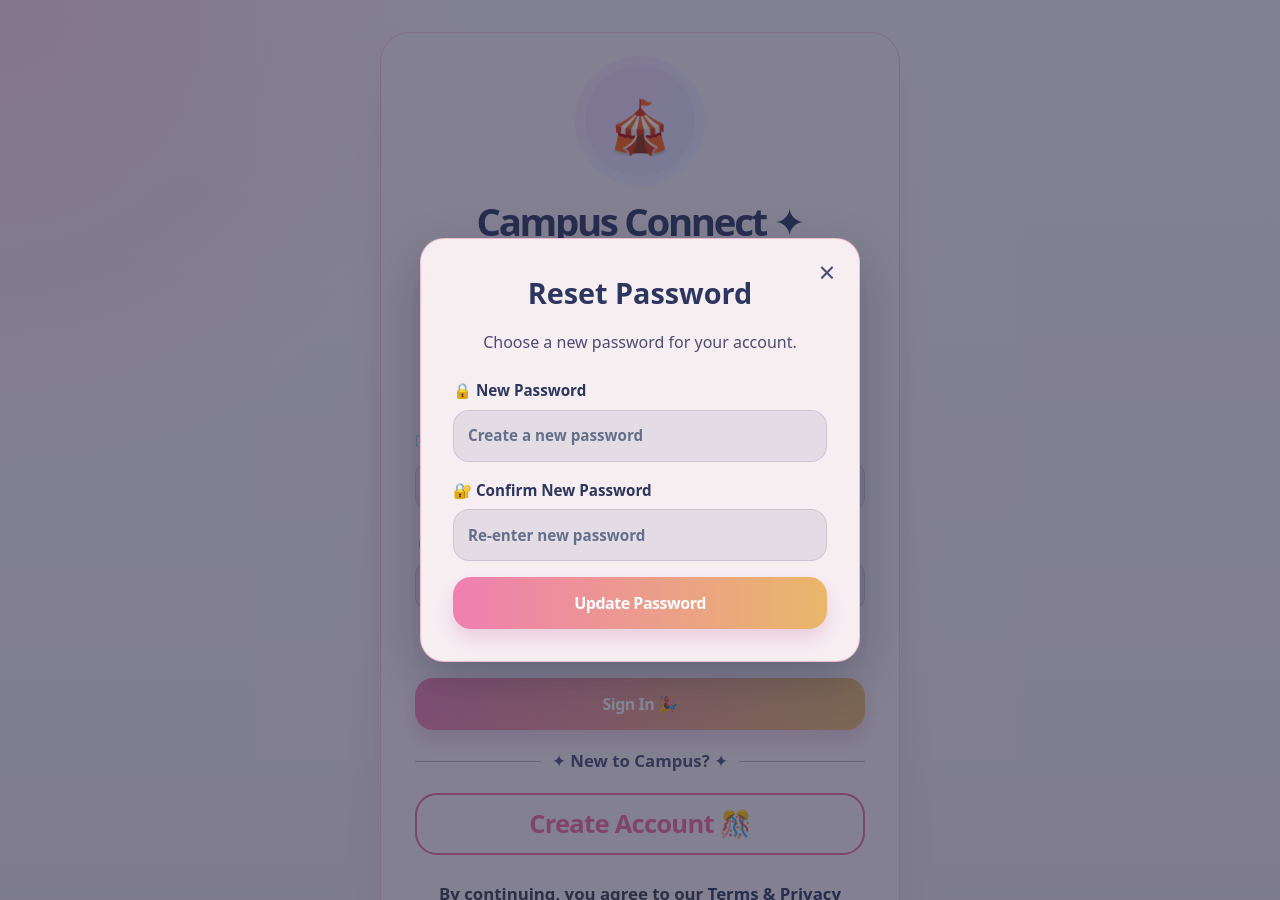
LoginPage › does not submit mismatched new passwords
Type "NewPassword1" into the password field labelled "New Password" at (640, 436), box [468,424,812,447]
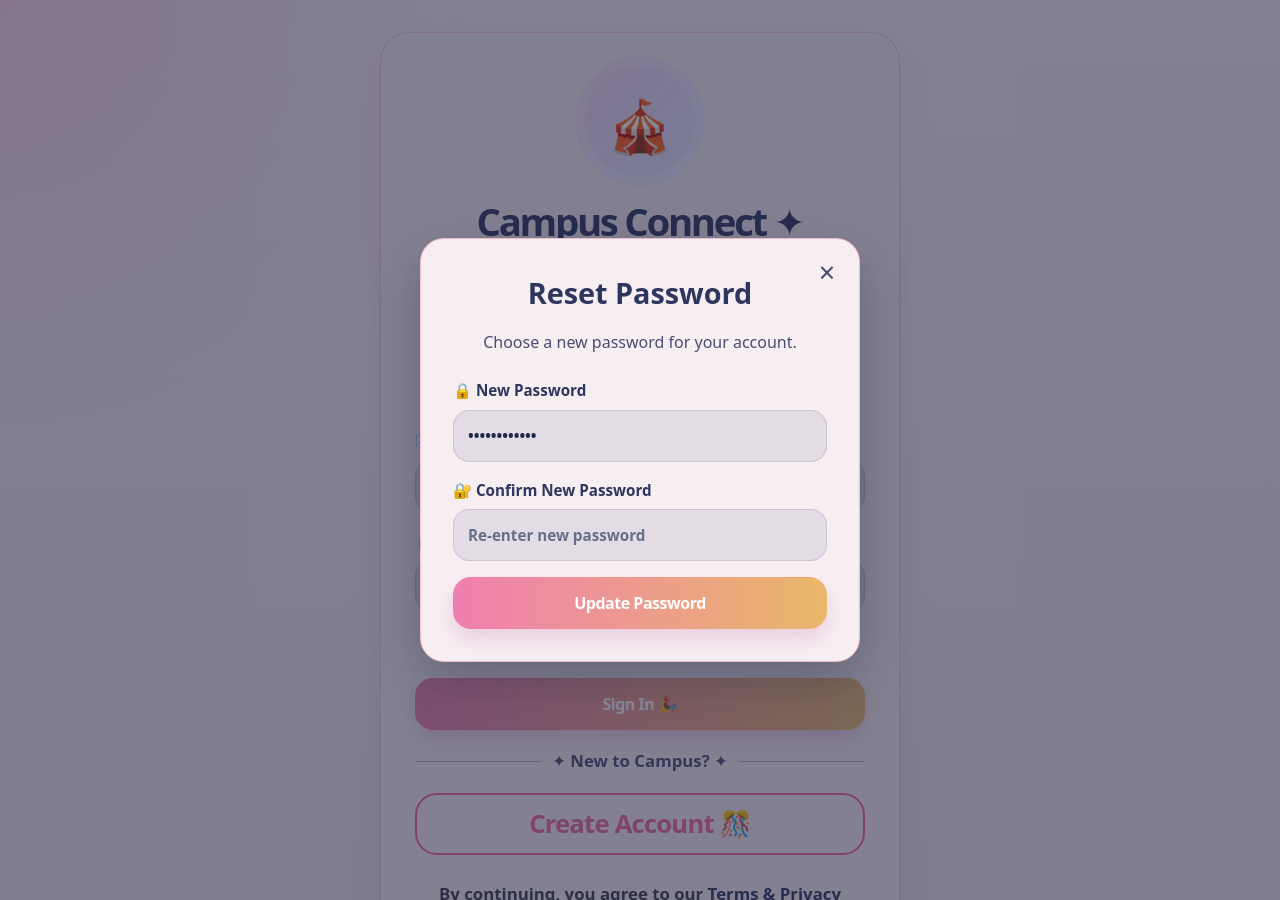
Type "DifferentPassword1" into the password field labelled "Confirm New Password" at (640, 535), box [468,524,812,547]
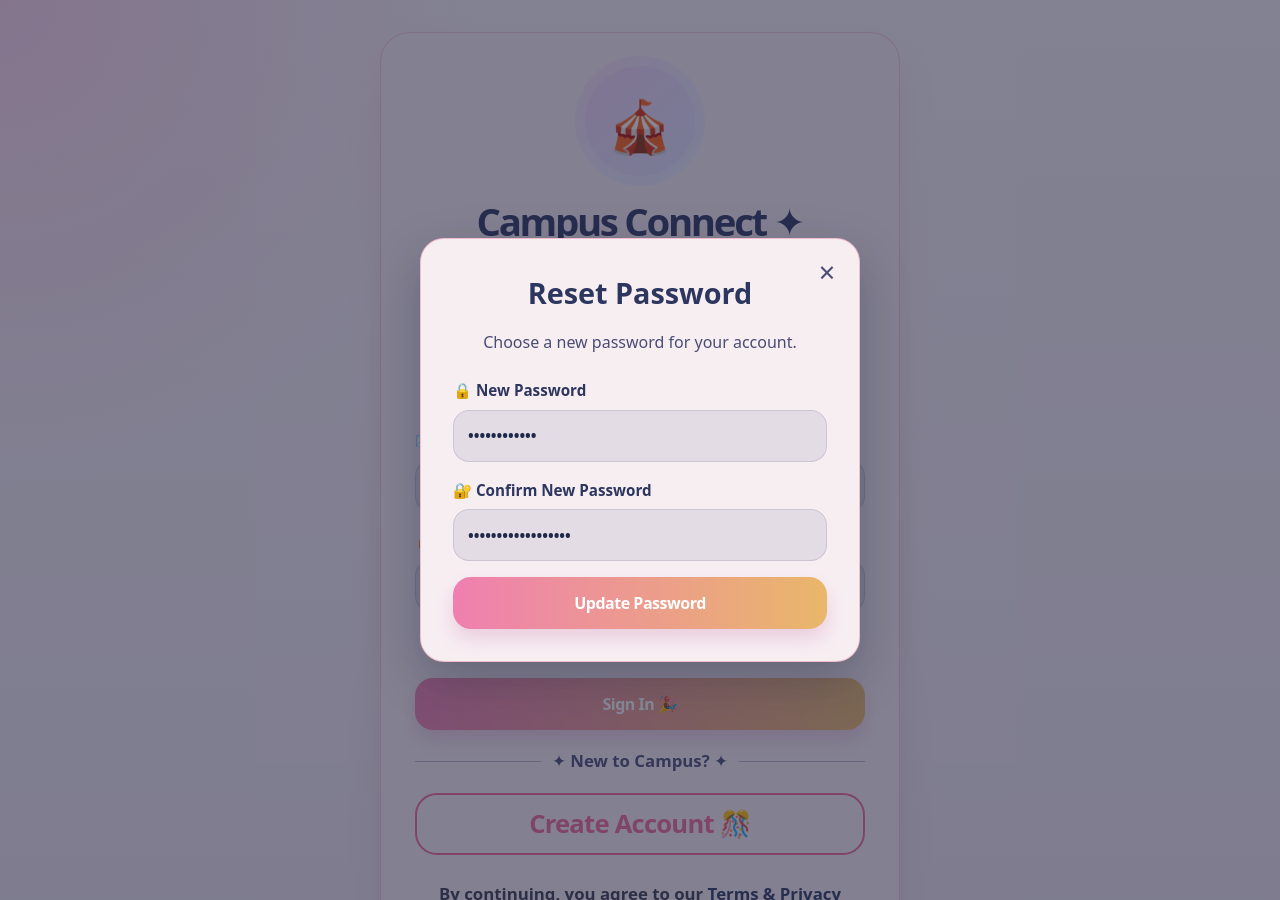
Click the button "Update Password" at (640, 603), box [453,577,827,629]
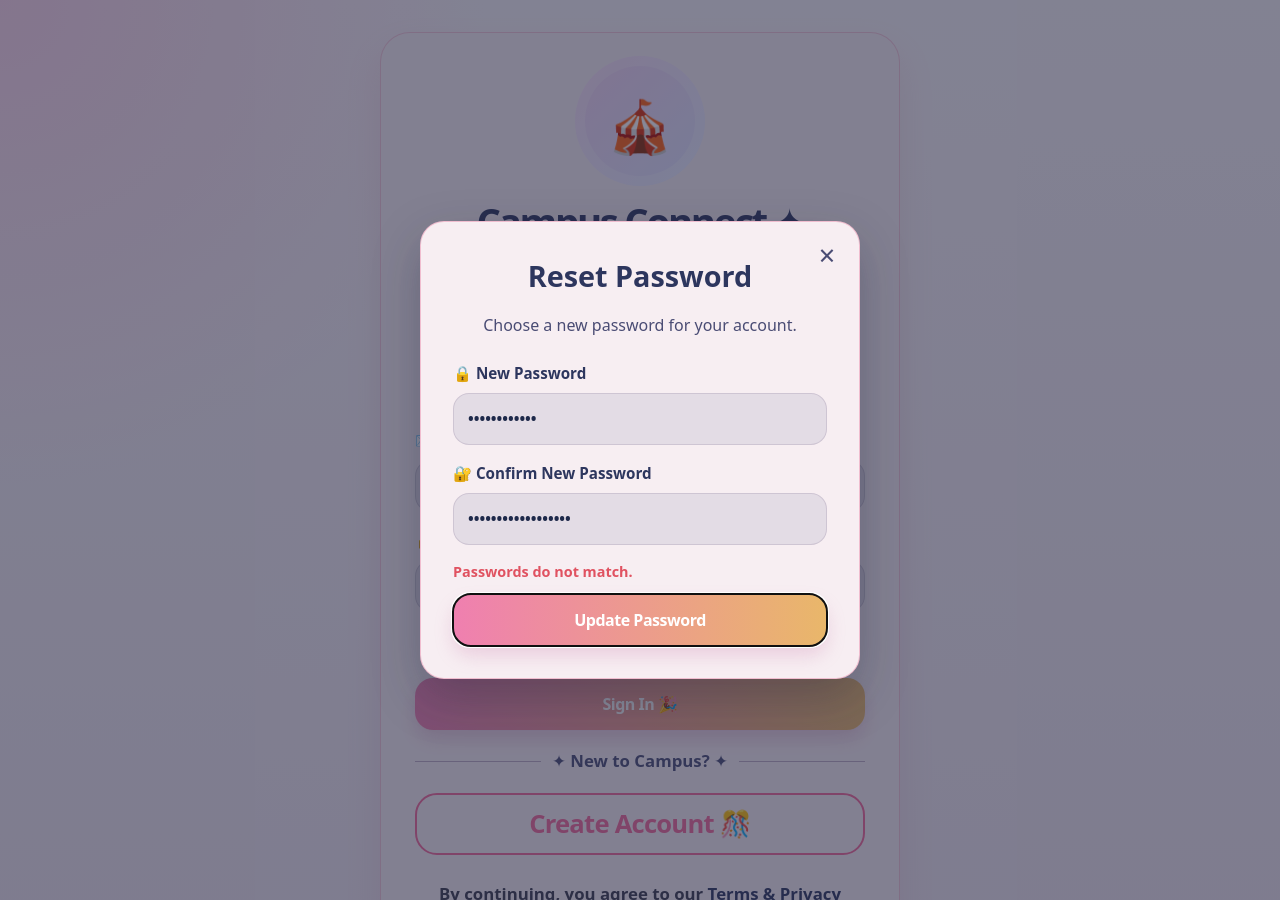
Expected: the text "Passwords do not match." is shown, [453,562,633,581]
